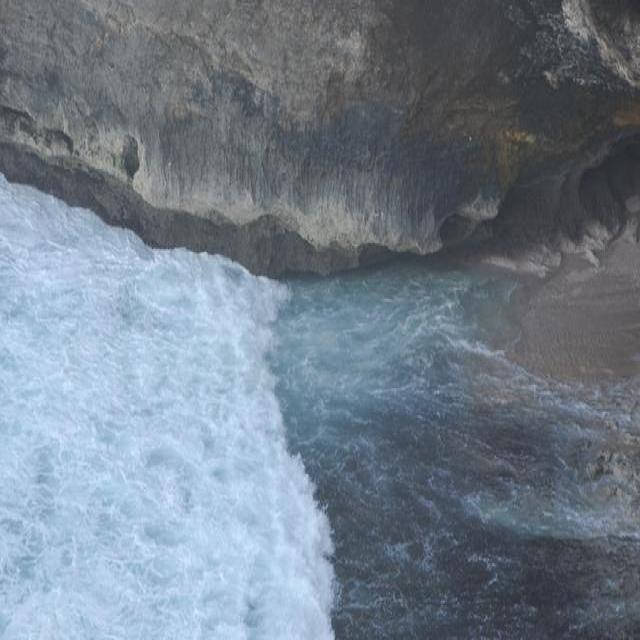reef: (80, 58, 619, 278)
